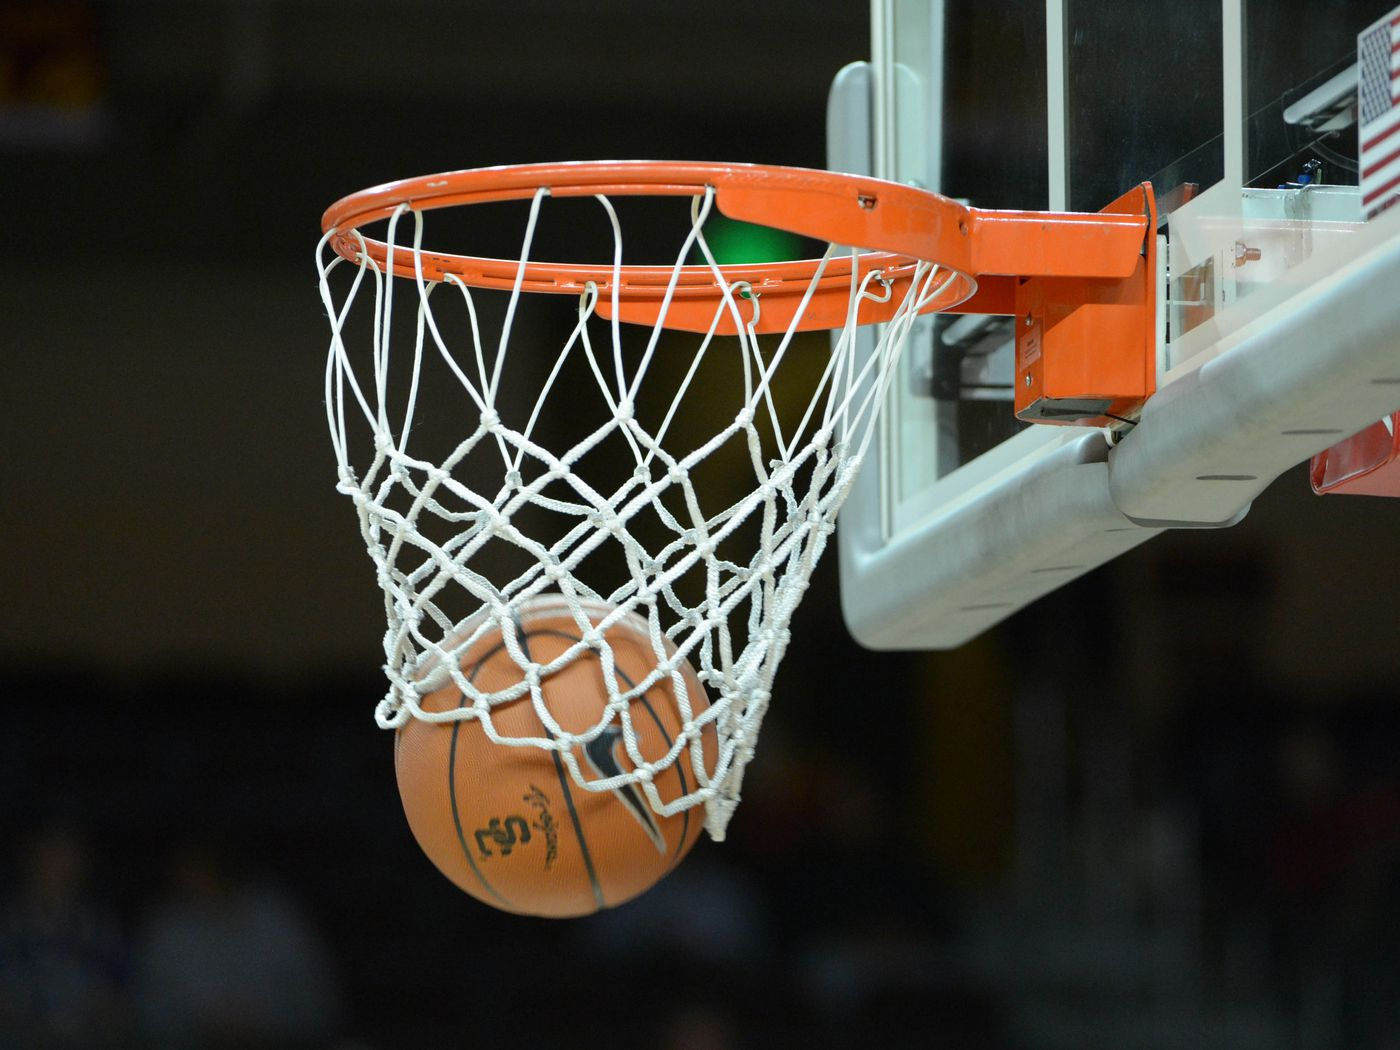MadeBasket: (319, 161, 978, 919)
